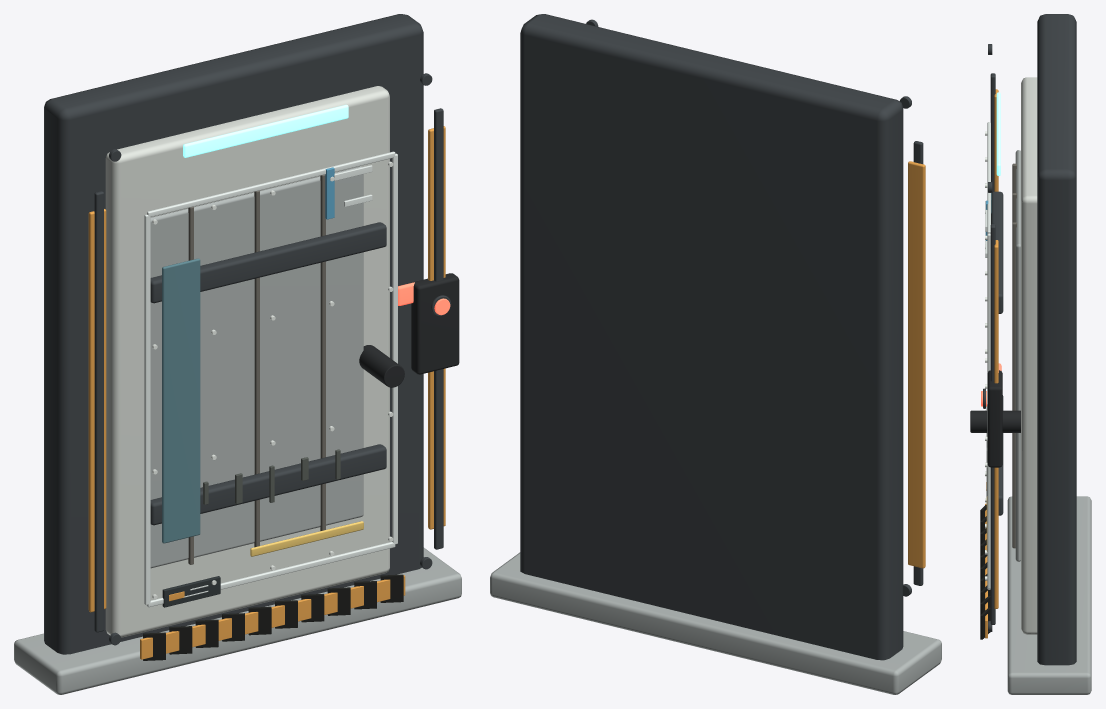
File: hp_room_door_security.glb
The picture shows the model from 3 angles, left to right: view 1: azimuth 30°, elevation 25°; view 2: azimuth 150°, elevation 25°; view 3: azimuth 270°, elevation 25°; orthographic projection. The views are drawn at different scales.
Parts seen in each view (by area): view 1: room_door_security_body_frame, room_door_security_door_leaf, room_door_security_panel_inner_dark, room_door_security_threshold_heavy_plate, room_door_security_left_identity_color_art_color_block, room_door_security_lock_bar_upper, room_door_security_lock_bar_lower, room_door_security_frame_bolt_rail_l, room_door_security_access_reader_body, room_door_security_warning_stripe_l, room_door_security_frame_bolt_rail_r, room_door_security_threshold_hazard_band_back (+11 smaller); view 2: room_door_security_body_frame, room_door_security_threshold_heavy_plate, room_door_security_warning_stripe_l; view 3: room_door_security_body_frame, room_door_security_door_leaf, room_door_security_threshold_heavy_plate, room_door_security_panel_inner_dark, room_door_security_frame_bolt_rail_r, room_door_security_access_reader_body, room_door_security_warning_stripe_r, room_door_security_panel_groove_03, room_door_security_inner_trim_right, room_door_security_lock_bar_upper, room_door_security_door_handle, room_door_security_frame_bolt_rail_l (+5 smaller).
Part boxes in pixels (bbox=[...]): room_door_security_body_frame: bbox=[44, 14, 423, 654]; room_door_security_door_leaf: bbox=[105, 86, 389, 637]; room_door_security_panel_inner_dark: bbox=[150, 166, 363, 568]; room_door_security_threshold_heavy_plate: bbox=[14, 547, 461, 694]; room_door_security_left_identity_color_art_color_block: bbox=[162, 258, 200, 543]; room_door_security_lock_bar_upper: bbox=[150, 222, 386, 303]; room_door_security_lock_bar_lower: bbox=[150, 444, 386, 525]; room_door_security_frame_bolt_rail_l: bbox=[94, 191, 103, 632]; room_door_security_access_reader_body: bbox=[411, 273, 459, 374]; room_door_security_warning_stripe_l: bbox=[88, 209, 106, 612]; room_door_security_frame_bolt_rail_r: bbox=[434, 108, 443, 549]; room_door_security_threshold_hazard_band_back: bbox=[140, 575, 405, 659]; room_door_security_body_frame: bbox=[520, 14, 903, 660]; room_door_security_threshold_heavy_plate: bbox=[490, 552, 941, 694]; room_door_security_warning_stripe_l: bbox=[908, 161, 925, 568]; room_door_security_body_frame: bbox=[1037, 14, 1076, 665]; room_door_security_door_leaf: bbox=[1021, 77, 1037, 634]; room_door_security_threshold_heavy_plate: bbox=[1007, 496, 1091, 694]; room_door_security_panel_inner_dark: bbox=[1015, 150, 1020, 561]; room_door_security_frame_bolt_rail_r: bbox=[990, 223, 995, 624]; room_door_security_access_reader_body: bbox=[987, 370, 1002, 467]; room_door_security_warning_stripe_r: bbox=[994, 240, 998, 608]; room_door_security_panel_groove_03: bbox=[1012, 222, 1016, 548]; room_door_security_inner_trim_right: bbox=[987, 233, 990, 588]; room_door_security_lock_bar_upper: bbox=[991, 191, 1003, 313]; room_door_security_door_handle: bbox=[970, 410, 1020, 432]; room_door_security_frame_bolt_rail_l: bbox=[990, 73, 995, 191].
Size of the model in its own units: 1.72 by 2.3 by 0.49.
